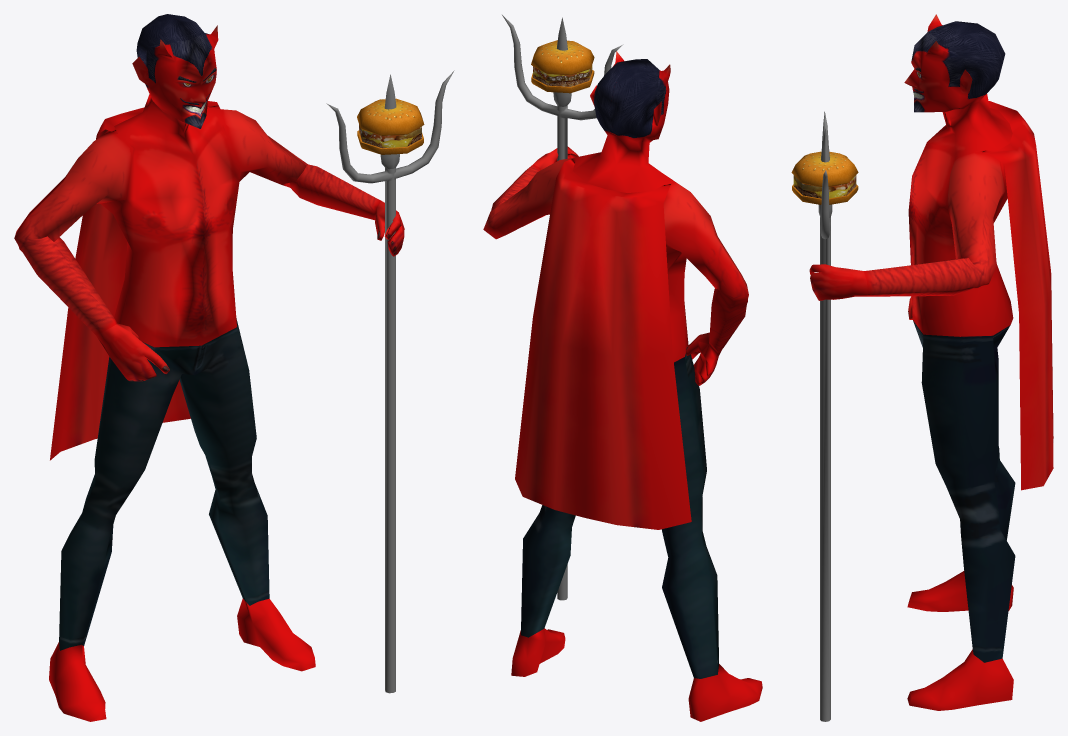
File: devil.obj
The picture shows the model from 3 angles, left to right: view 1: azimuth 30°, elevation 25°; view 2: azimuth 150°, elevation 25°; view 3: azimuth 270°, elevation 25°; orthographic projection. The views are drawn at different scales.
Visible parts, largest first — view 1: Devil; view 2: Devil; view 3: Devil.
Boxes of the visible parts, x1,y1,x2,y2 form: Devil: (14,14,454,721); Devil: (483,15,762,721); Devil: (791,14,1053,721).
Bounding box in the file's own units: 2.36 × 4.21 × 1.59.
Materials: 1 (1 with a texture image).
